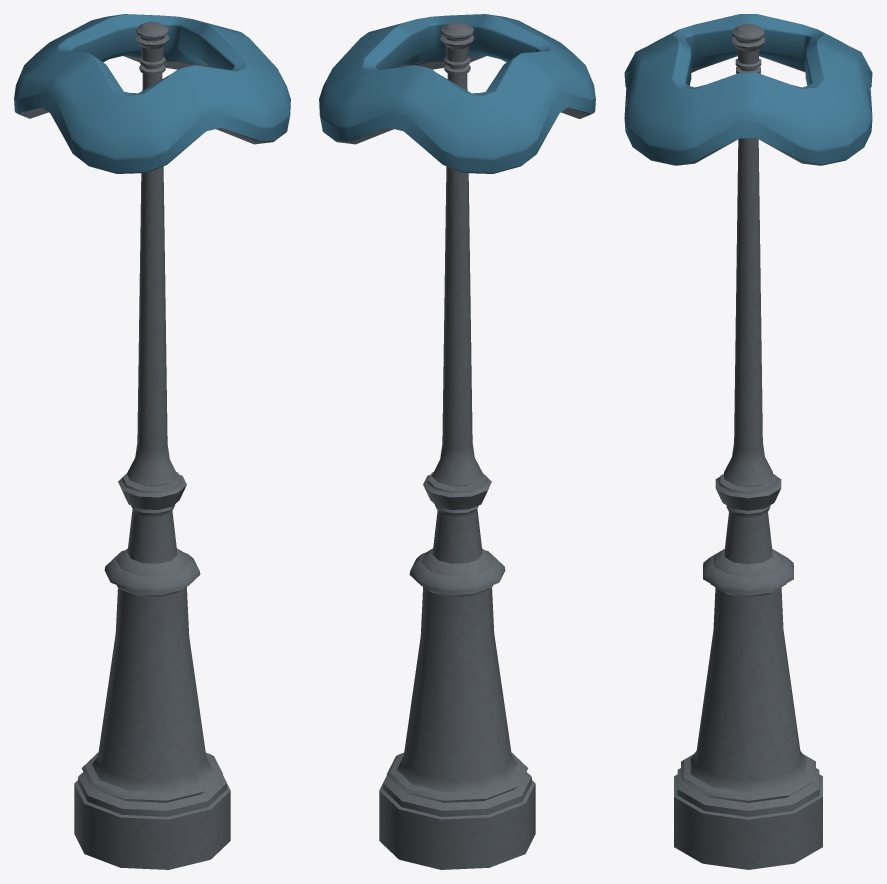
File: Streetlamp_Small.fbx
3 views of the same model, side by side, from view 1: azimuth 30°, elevation 25°; view 2: azimuth 150°, elevation 25°; view 3: azimuth 270°, elevation 25° (orthographic).
Visible parts, largest first — view 1: Streetlamp, Light_Soft; view 2: Streetlamp, Light_Soft; view 3: Streetlamp, Light_Soft.
Boxes of the visible parts, x1,y1,x2,y2 form: Streetlamp: (74, 21, 230, 869); Light_Soft: (14, 14, 290, 173); Streetlamp: (379, 21, 535, 869); Light_Soft: (319, 14, 595, 173); Streetlamp: (674, 23, 822, 869); Light_Soft: (624, 14, 872, 165).
Size of what is drawn, in the model's own units: 0.9838 by 3.55 by 0.9838.
